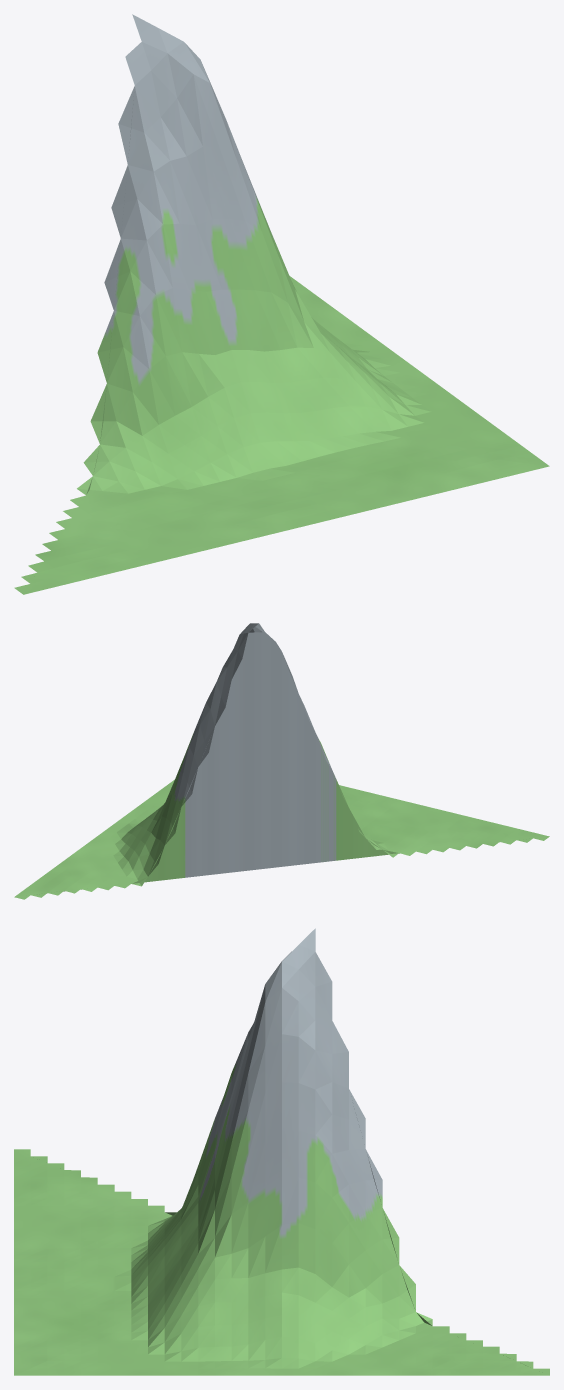
Rendered from Grass_RockyMountains_07_NE.obj.
The picture shows the model from 3 angles, top to bottom: view 1: azimuth 30°, elevation 25°; view 2: azimuth 150°, elevation 25°; view 3: azimuth 270°, elevation 25°; orthographic projection. The views are drawn at different scales.
Bounding box in the file's own units: 10 × 7.03 × 10.
Materials: 1 (1 with a texture image).
